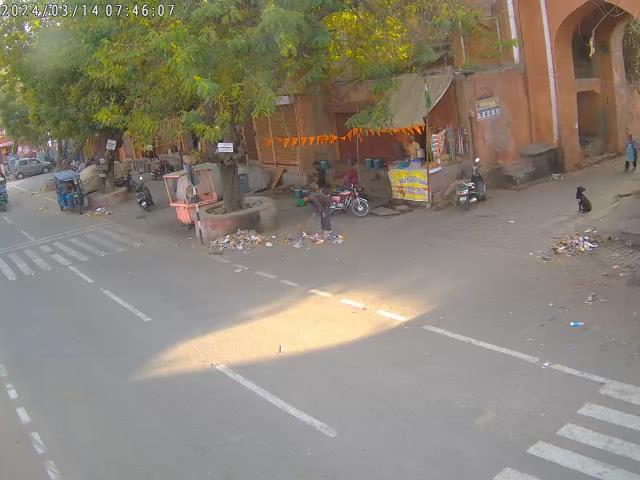auto: (52, 170, 85, 214)
car: (14, 156, 54, 177)
motorbike: (324, 186, 370, 218)
person: (301, 192, 333, 234), (625, 135, 640, 173), (311, 160, 323, 192)
scooty: (458, 164, 487, 208), (133, 178, 154, 210)
vendor: (162, 169, 220, 226)
